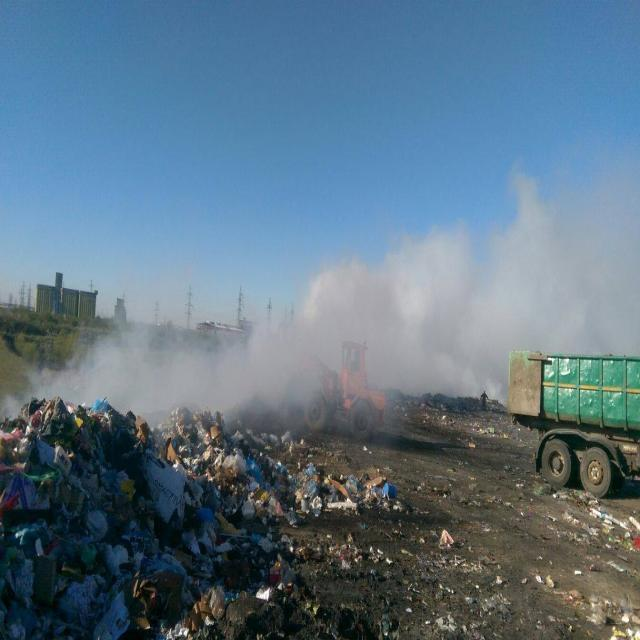Smoke: (109, 208, 638, 430)
